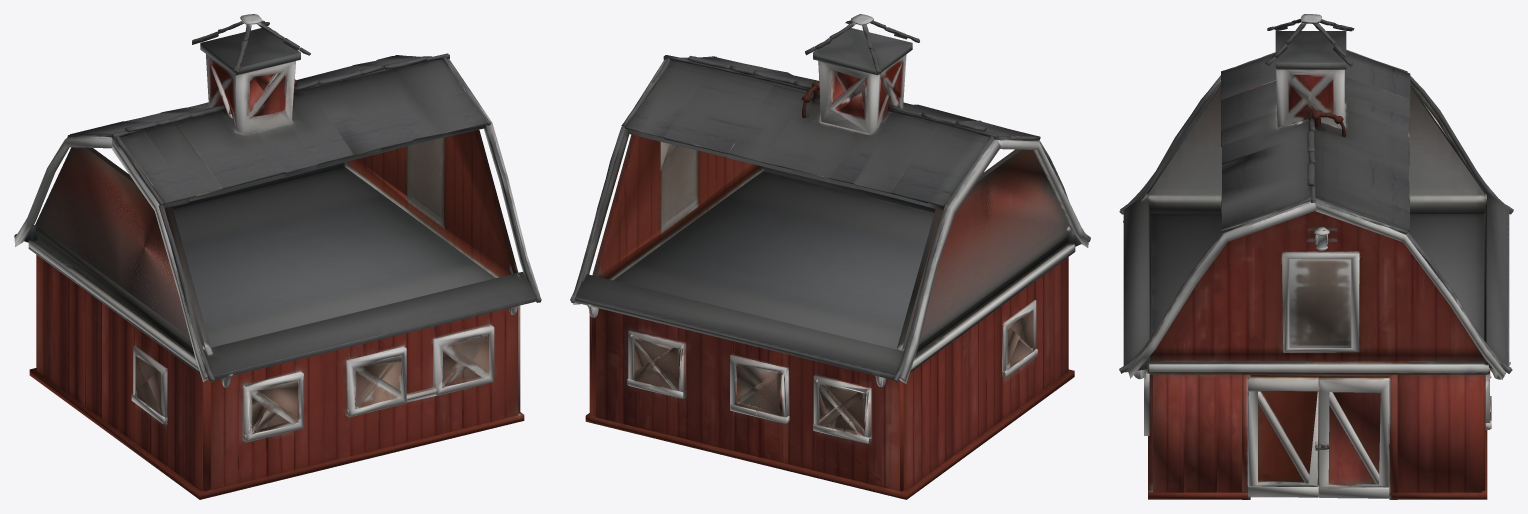
Rendered from barn.glb.
3 views of the same model, side by side, from view 1: azimuth 30°, elevation 25°; view 2: azimuth 150°, elevation 25°; view 3: azimuth 270°, elevation 25° (orthographic).
Parts seen in each view (by area): view 1: tripo_node_94b7a549-35c2-4c23-9e85-8b47aebc7942; view 2: tripo_node_94b7a549-35c2-4c23-9e85-8b47aebc7942; view 3: tripo_node_94b7a549-35c2-4c23-9e85-8b47aebc7942.
Boxes of the visible parts, bbox=[...] form: tripo_node_94b7a549-35c2-4c23-9e85-8b47aebc7942: bbox=[14, 14, 541, 499]; tripo_node_94b7a549-35c2-4c23-9e85-8b47aebc7942: bbox=[570, 14, 1090, 499]; tripo_node_94b7a549-35c2-4c23-9e85-8b47aebc7942: bbox=[1119, 14, 1513, 499].
Bounding box in the file's own units: 5.21 × 5.6 × 5.14.
1 material, 1 textured.
